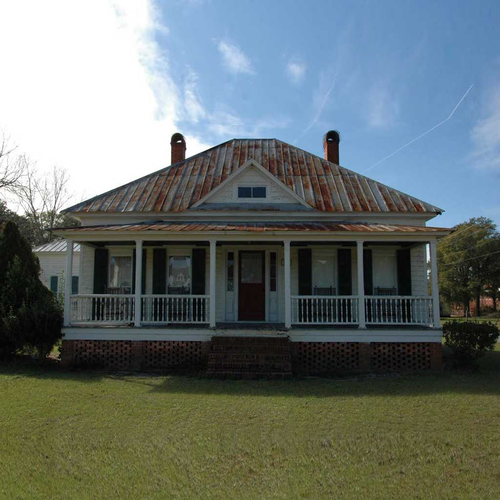Tin-shade House: (56, 146, 449, 352)
